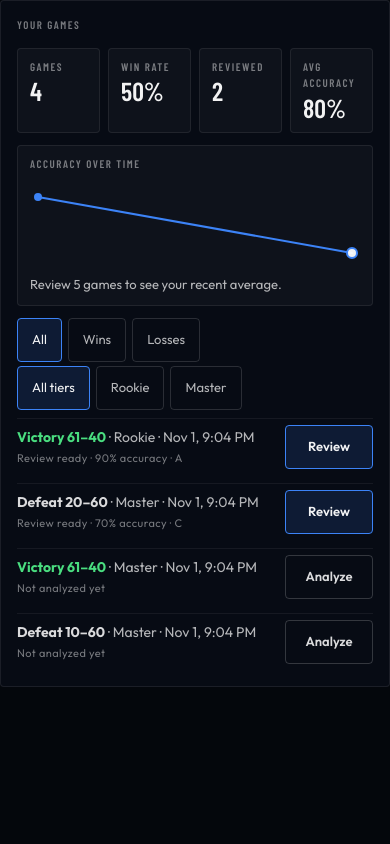
Test: the Games page › filters by result and by tier, offering only tiers you have played
Expected: the number of list items is 4, [17,418,373,475]; [17,483,373,540]; [17,548,373,605]; [17,613,373,670]
Expected: the buttons read "All tiers", "Rookie", "Master", in this order, [17,366,90,410]; [96,366,164,410]; [170,366,242,410]
What coordinates should you click on to do the following:
click the button "Losses"
I would click on:
 (166, 340)
Its box is [132,318,200,362].
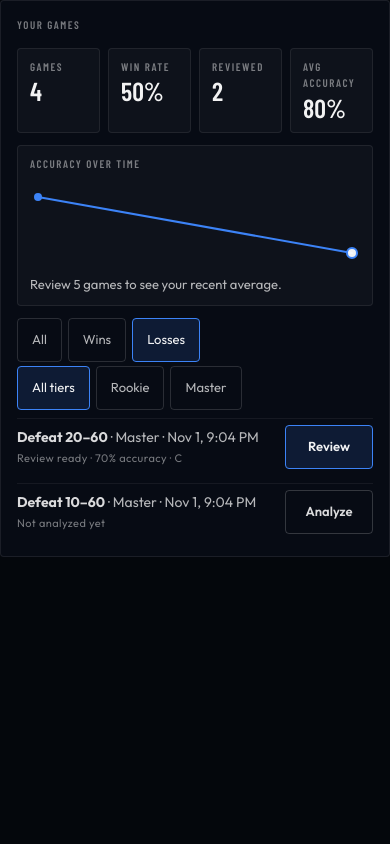
Expected: the number of list items is 2, [17,418,373,475]; [17,483,373,540]
What coordinates should you click on to do the following:
click the button "Master"
I would click on:
 (206, 388)
Its box is [170,366,242,410].
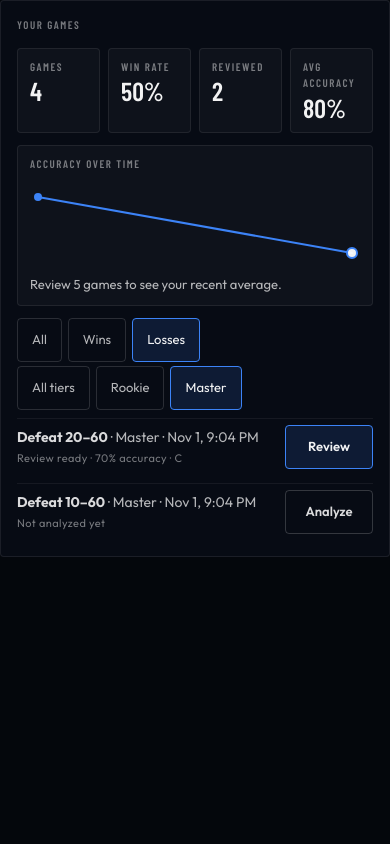
Expected: the number of list items is 2, [17,418,373,475]; [17,483,373,540]
What coordinates should you click on to do the following:
click the button "Rookie"
I would click on:
 (130, 388)
Its box is [96,366,164,410].
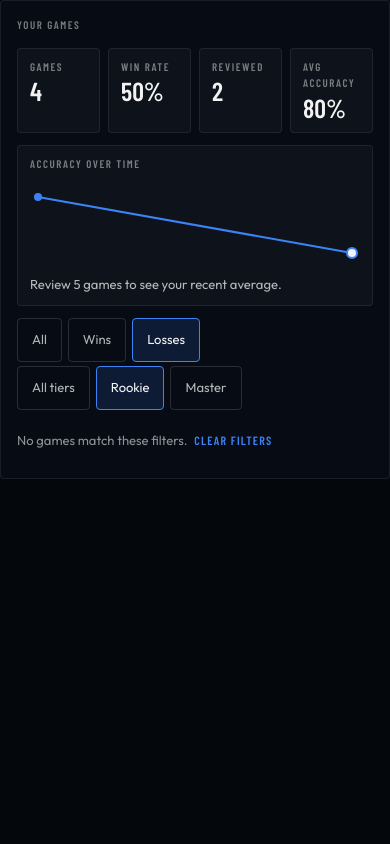
Expected: no list items are shown
Expected: the text "No games match these filters. Clear filters" is shown, [17,418,276,462]
What coordinates should you click on to do the following:
click the button "Clear filters"
I would click on:
 (233, 440)
Its box is [190,418,276,462].
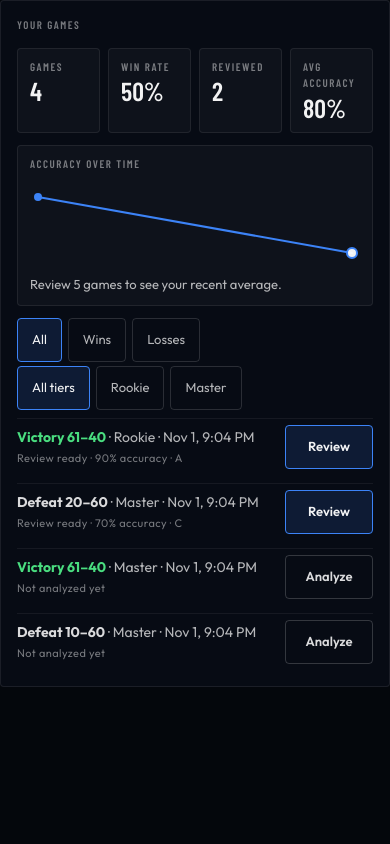
Expected: the number of list items is 4, [17,418,373,475]; [17,483,373,540]; [17,548,373,605]; [17,613,373,670]
